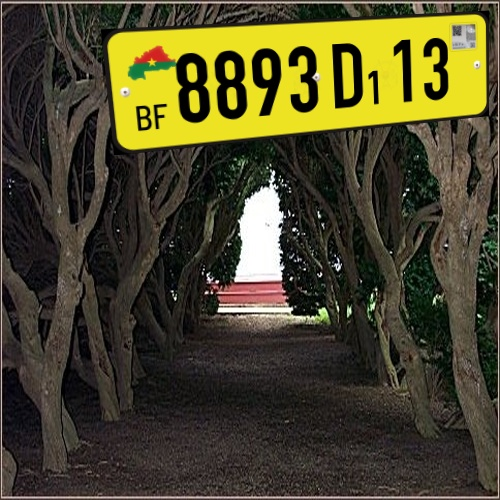plate: (94, 10, 500, 155)
